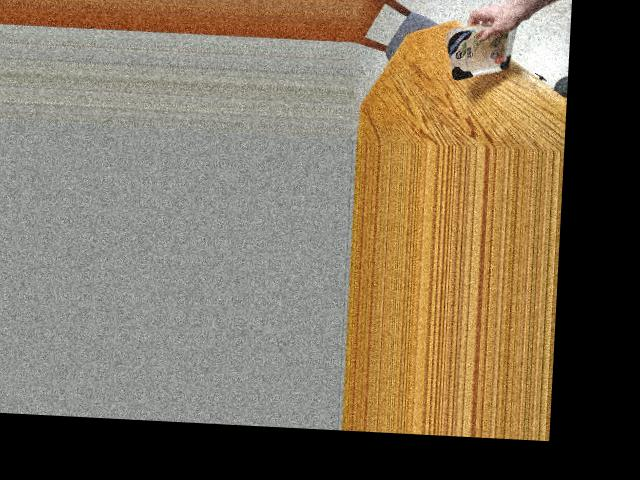cheese: (441, 23, 524, 78)
